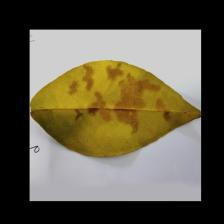canker: (65, 60, 174, 132)
